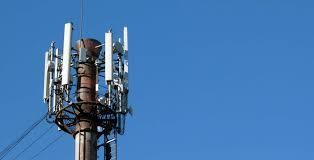antenna: (58, 22, 75, 88), (101, 30, 114, 81), (41, 49, 51, 101), (122, 25, 129, 52), (129, 100, 136, 118)
